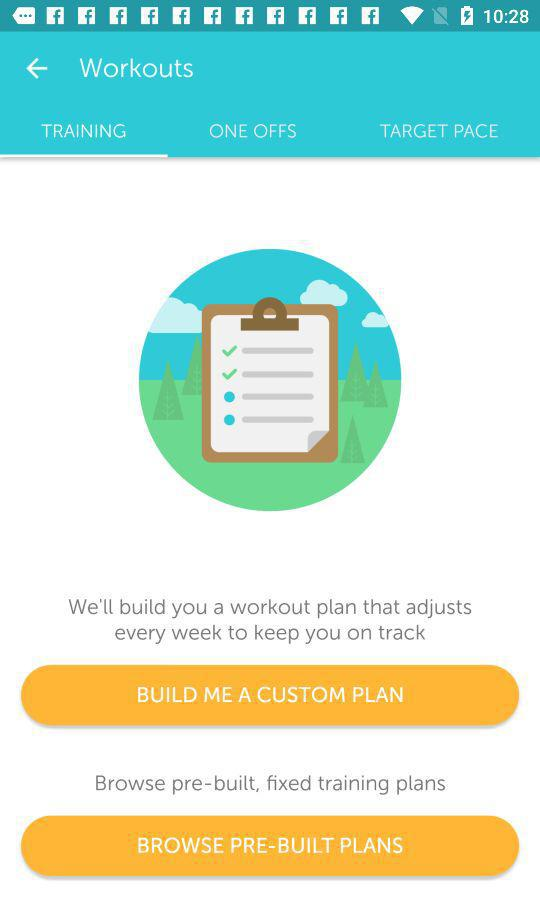Icon: (26, 58, 49, 81)
Image: (139, 249, 402, 513)
Text: (68, 597, 473, 646), (96, 774, 446, 796), (79, 57, 194, 80), (378, 123, 499, 140), (209, 123, 297, 140), (41, 123, 128, 140)
TextButton: (22, 815, 520, 880), (21, 665, 520, 727)
UpperTaskBar: (1, 1, 540, 33)
